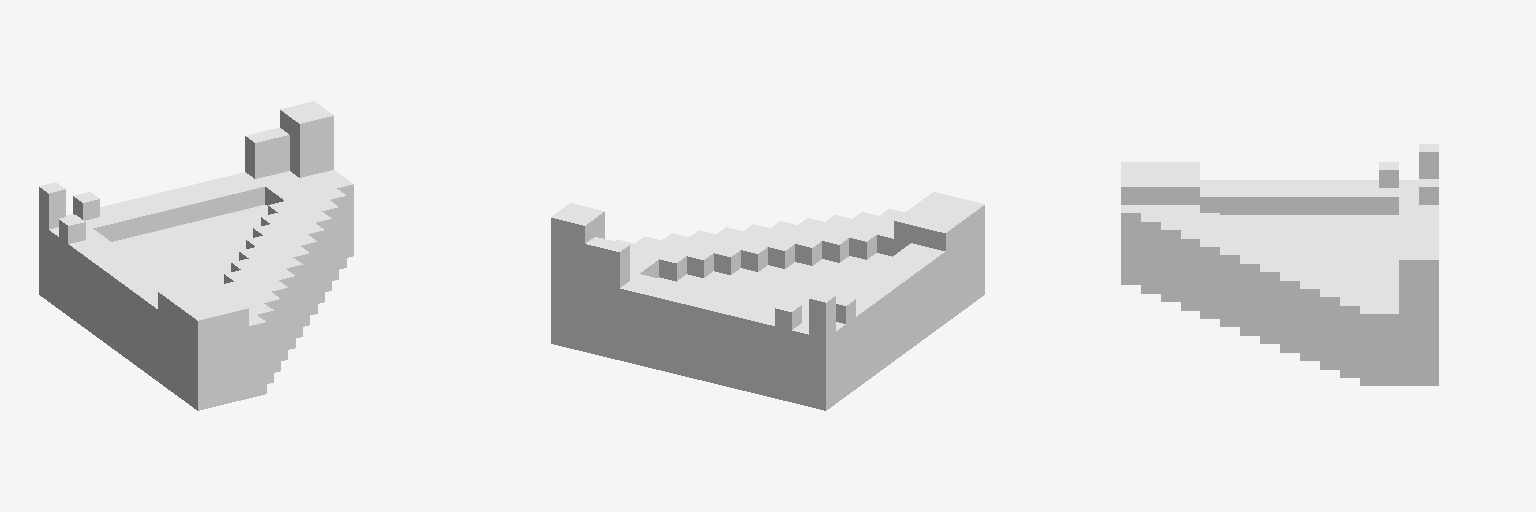
File: BathTub_Big.obj
3 renders of one model, left to right at view 1: azimuth 30°, elevation 25°; view 2: azimuth 150°, elevation 25°; view 3: azimuth 270°, elevation 25°, orthographic.
Parts seen in each view (by area): view 1: BathTub_Big; view 2: BathTub_Big; view 3: BathTub_Big.
Part boxes in pixels (x1,y1,x2,y2): BathTub_Big: (39,101,353,410); BathTub_Big: (551,192,984,410); BathTub_Big: (1121,144,1438,385).
Size of the model in its own units: 16 by 7 by 16.